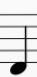D: (9, 10, 28, 75)
